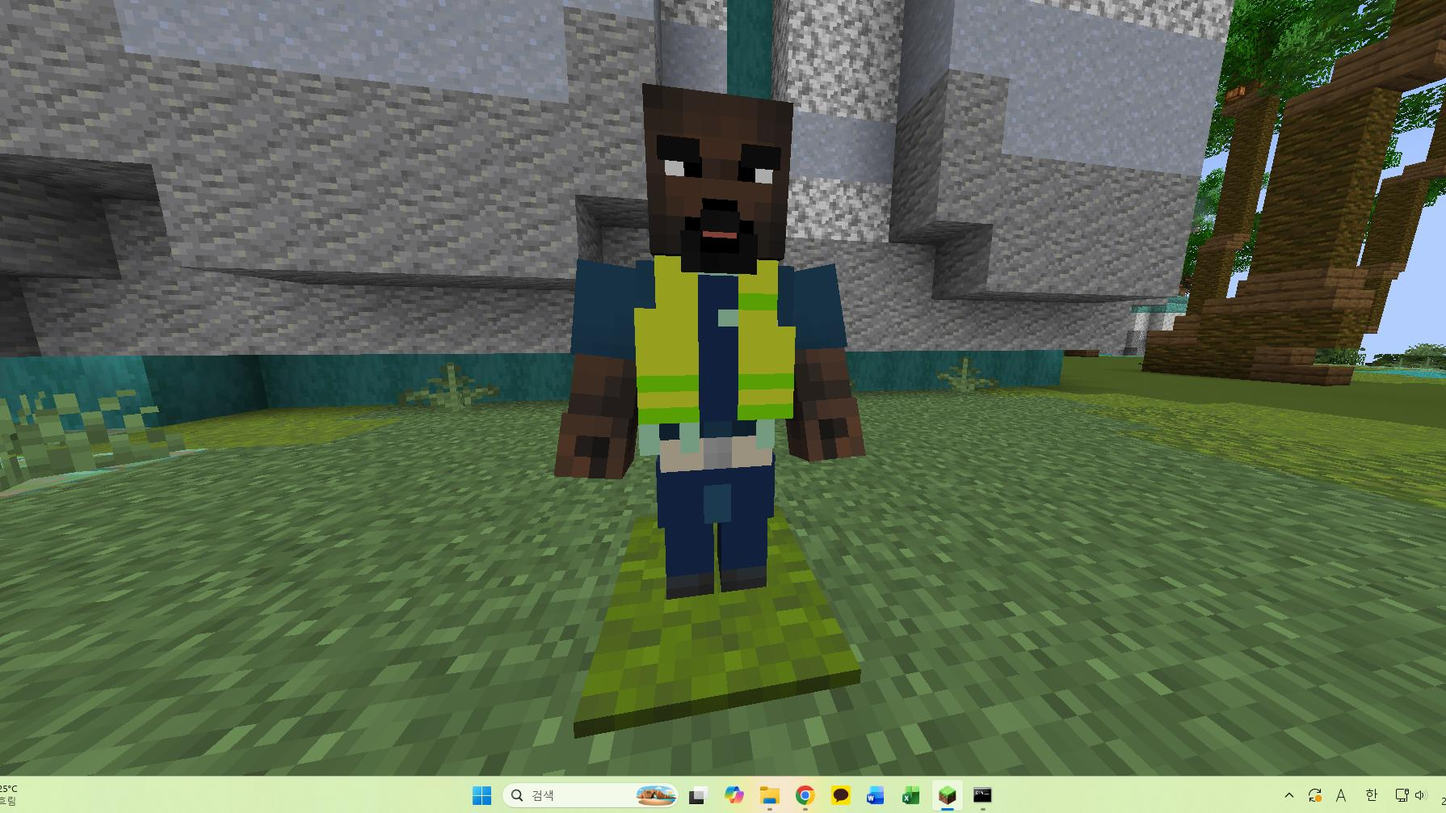Guardian: (555, 84, 864, 599)
